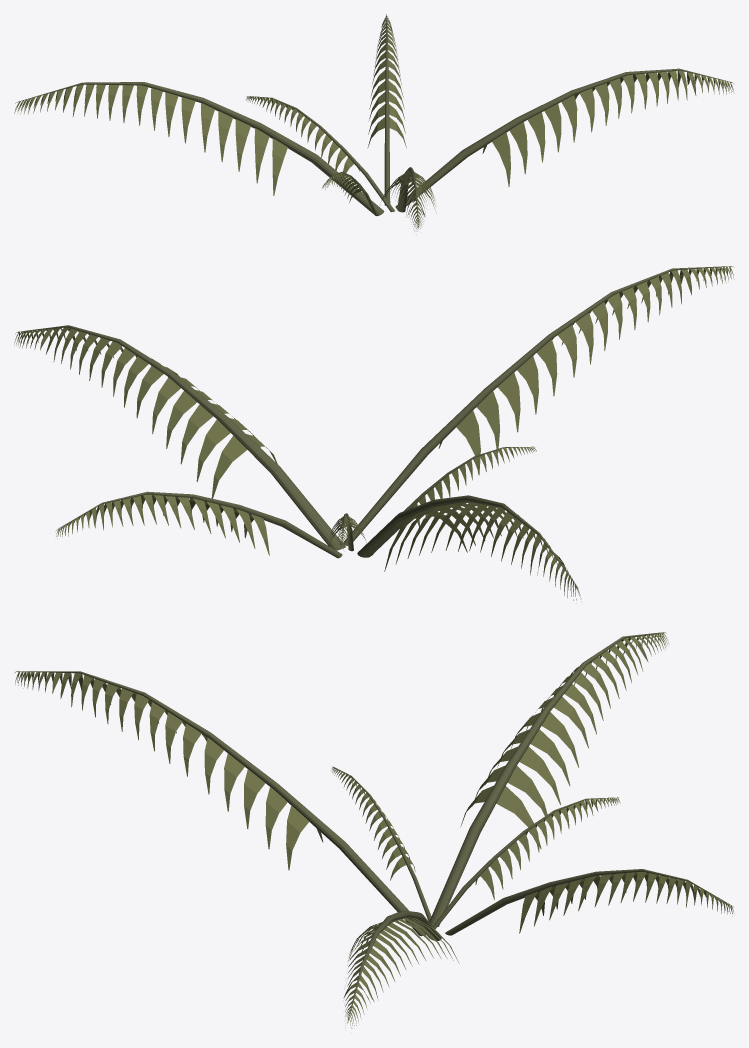
File: WiltedFernBush.fbx
3 renders of one model, top to bottom at view 1: azimuth 30°, elevation 25°; view 2: azimuth 150°, elevation 25°; view 3: azimuth 270°, elevation 25°, orthographic. The views are drawn at different scales.
Visible parts, largest first — view 1: leaves (×6), fernStem (×5); view 2: leaves (×5), fernStem (×4); view 3: leaves (×6), fernStem (×5).
Part boxes in pixels (x1,y1,x2,y2): leaves (×6): (14, 14, 734, 231); fernStem (×5): (20, 15, 730, 224); leaves (×5): (14, 266, 734, 600); fernStem (×4): (18, 266, 730, 584); leaves (×6): (15, 632, 734, 1028); fernStem (×5): (18, 632, 731, 1017).
Bounding box in the file's own units: 33.77 × 8.48 × 29.
